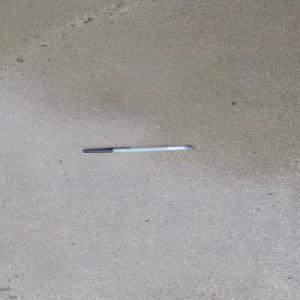Pen: (81, 144, 192, 153)
